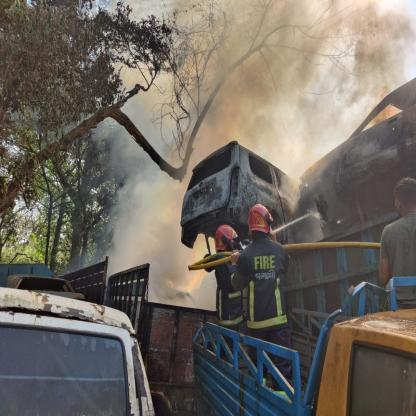Smoke: (104, 0, 416, 296)
